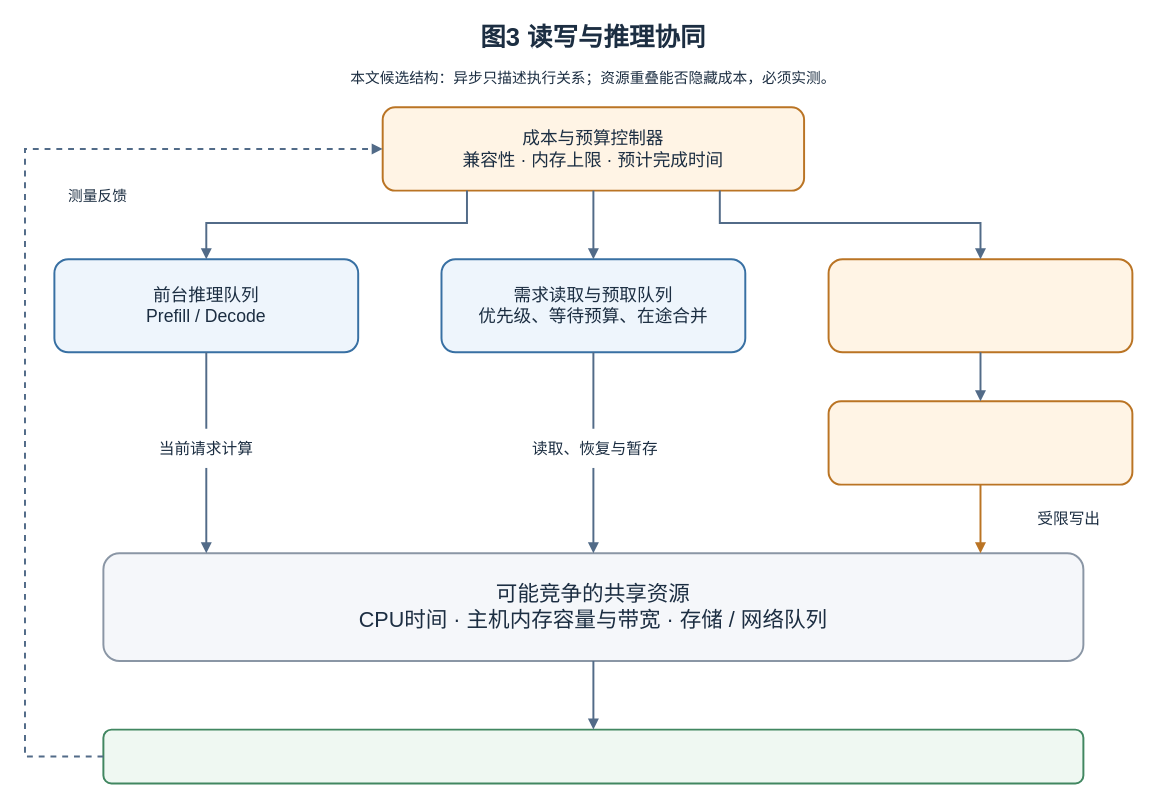
Some shapes in this 1168 by 801 pixel diagram are drawn without their labels. The shapes that lost their labels are listed below. From the top down, each one's centre as x and y in pixels, then its label:
the point at 980,305: 后台历史写出队列 复用价值与源状态生命周期
the point at 980,442: 限制并发与在途字节量 积压上限；必要时舍弃可选写出
the point at 593,756: 观测与反馈：TTFT / TPOT、排队、读写字节、峰值内存、估计误差
